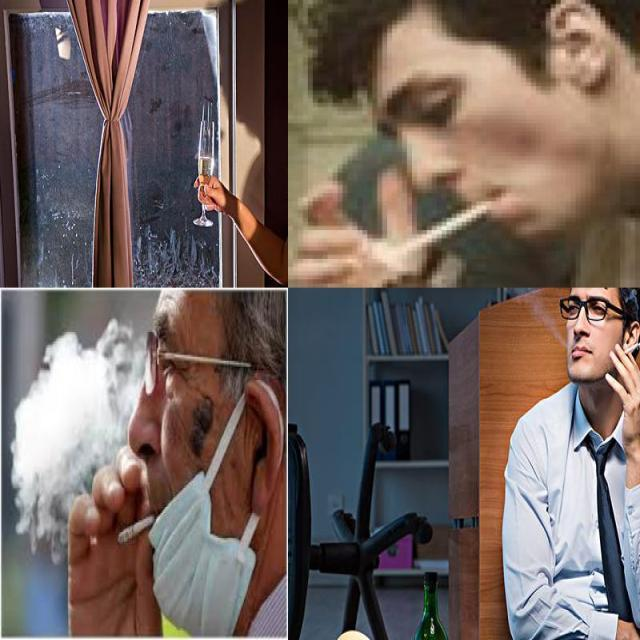smoking: (378, 188, 516, 264), (118, 512, 158, 546), (620, 339, 639, 356)
